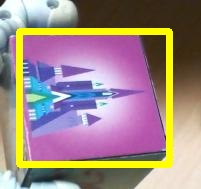Castle4: (19, 31, 169, 164)
